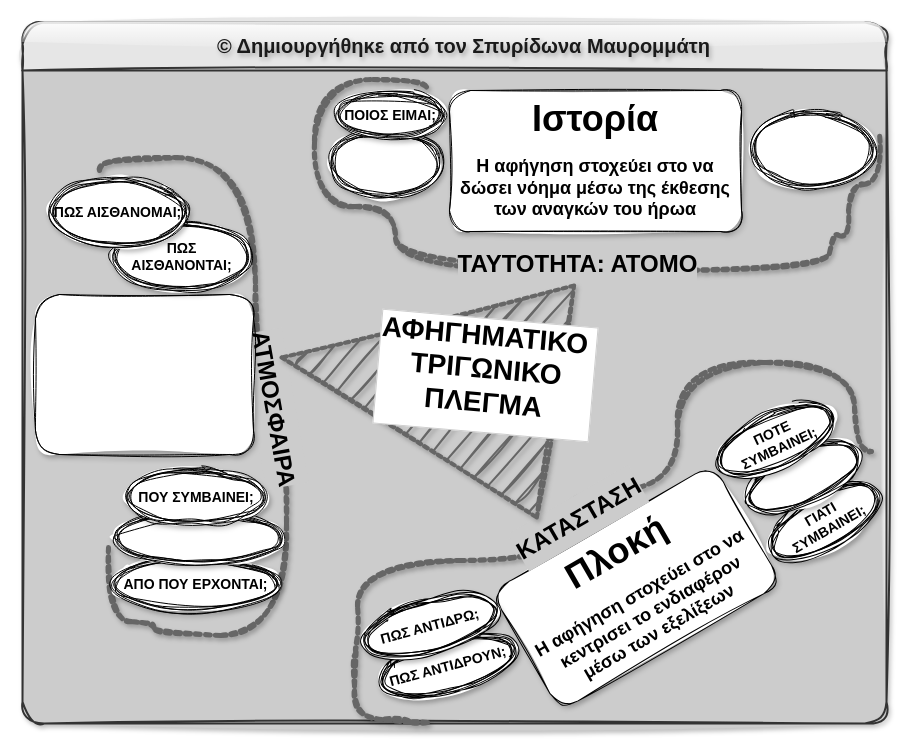
Some shapes in this 918 by 748 pixel diagram are drawn without their labels. The shapes that lost their labels are listed below. From the top down, each one's centre as x and y in pixels, then its label:
(x=386, y=165): ΑΠΟ ΠΟΥ ΕΡΧΟΜΑΙ;
(x=813, y=151): ΠΟΤΕ ΞΕΚΙΝΗΣΑΝ ΟΛΑ;
(x=145, y=376): Περιβάλλον Η αφήγηση παρέχει την ατμόσφαιρα και καθιστά τον χώρο χειροπιαστό .
(x=804, y=477): ΤΙ ΣΥΜΒΑΙΝΕΙ;
(x=200, y=540): ΜΕ ΠΟΙΟΥΣ;
